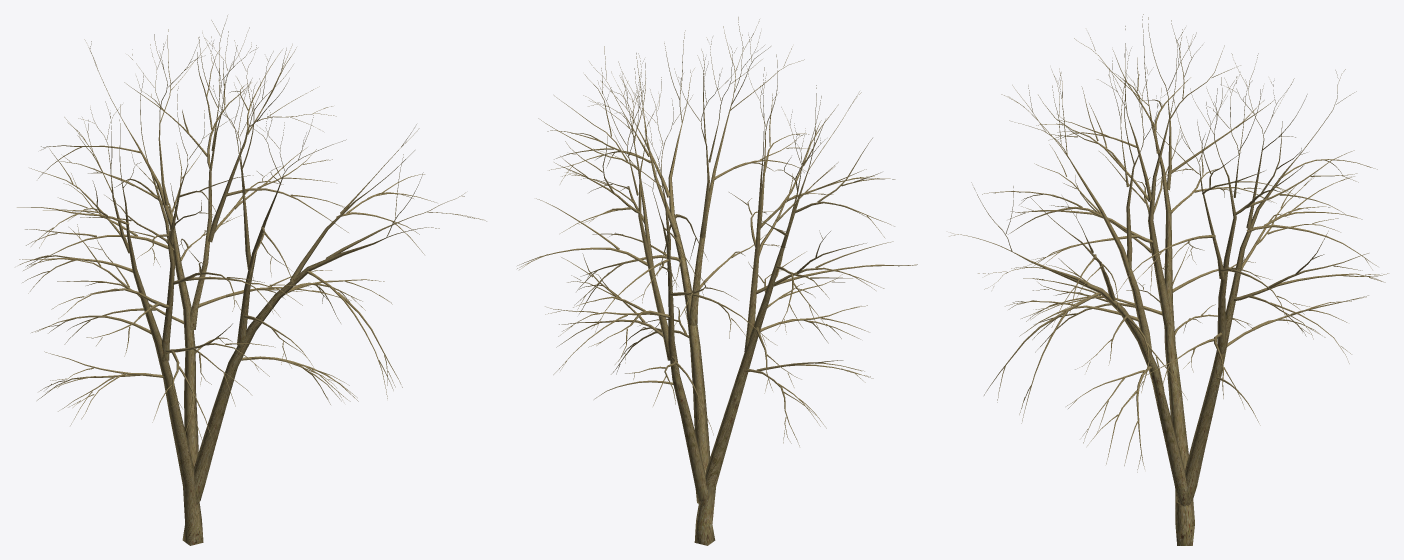
Rendered from terrain_v6_tree_004.dae.
The picture shows the model from 3 angles, left to right: view 1: azimuth 30°, elevation 25°; view 2: azimuth 150°, elevation 25°; view 3: azimuth 270°, elevation 25°; orthographic projection. The views are drawn at different scales.
Visible parts, largest first — view 1: tree_004; view 2: tree_004; view 3: tree_004.
Part boxes in pixels (bbox=[...]): tree_004: bbox=[17, 15, 486, 545]; tree_004: bbox=[517, 17, 917, 545]; tree_004: bbox=[949, 14, 1388, 545].
Bounding box in the file's own units: 8.95 × 9.1 × 11.25.
Materials: 1 (1 with a texture image).
